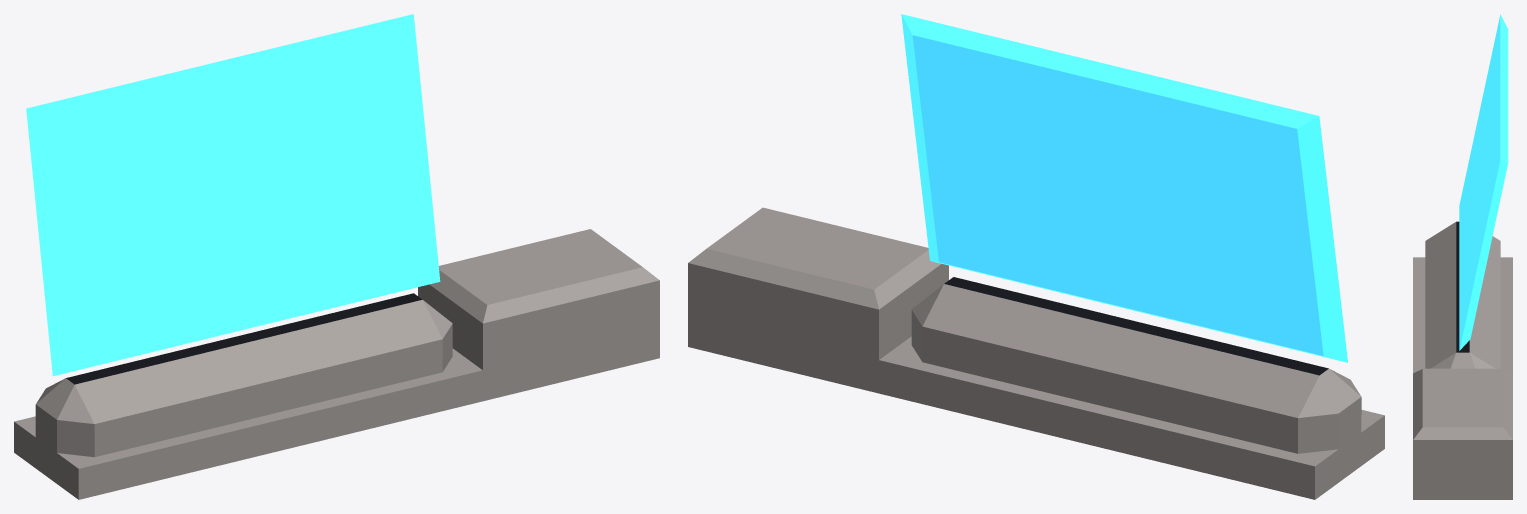
Rendered from scifi-scifi-frame-digital-a.glb.
The picture shows the model from 3 angles, left to right: view 1: azimuth 30°, elevation 25°; view 2: azimuth 150°, elevation 25°; view 3: azimuth 270°, elevation 25°; orthographic projection. The views are drawn at different scales.
Visible parts, largest first — view 1: scifi-frame-digital-a; view 2: scifi-frame-digital-a; view 3: scifi-frame-digital-a.
Part boxes in pixels (bbox=[...]): scifi-frame-digital-a: bbox=[14, 14, 659, 499]; scifi-frame-digital-a: bbox=[688, 14, 1384, 499]; scifi-frame-digital-a: bbox=[1413, 14, 1512, 499].
Size of the model in its own units: 0.45 by 0.2582 by 0.0868.
